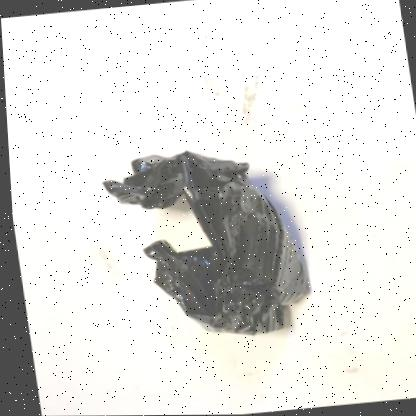Plastic: (101, 150, 306, 335)
